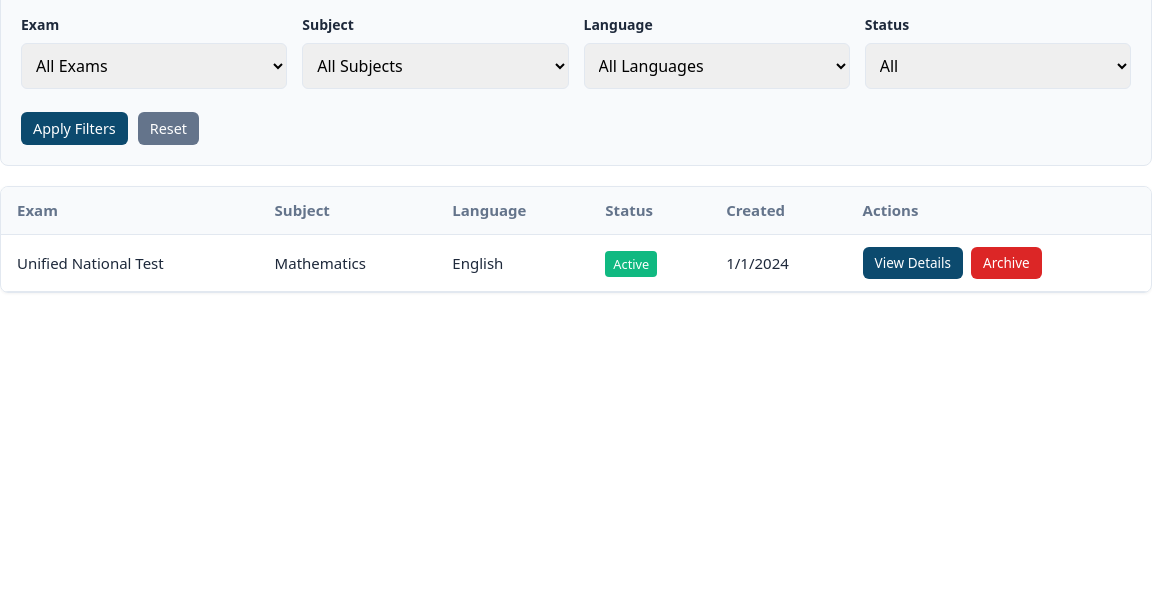
Test: CourseTemplatePanel › displays equations in quiz questions when equation field is present
The image size is (1152, 590).
What coordinates should you click on to do the following:
click the button "View Details"
I would click on:
 (913, 263)
Its box is [863, 247, 963, 279].
(page scrolled)
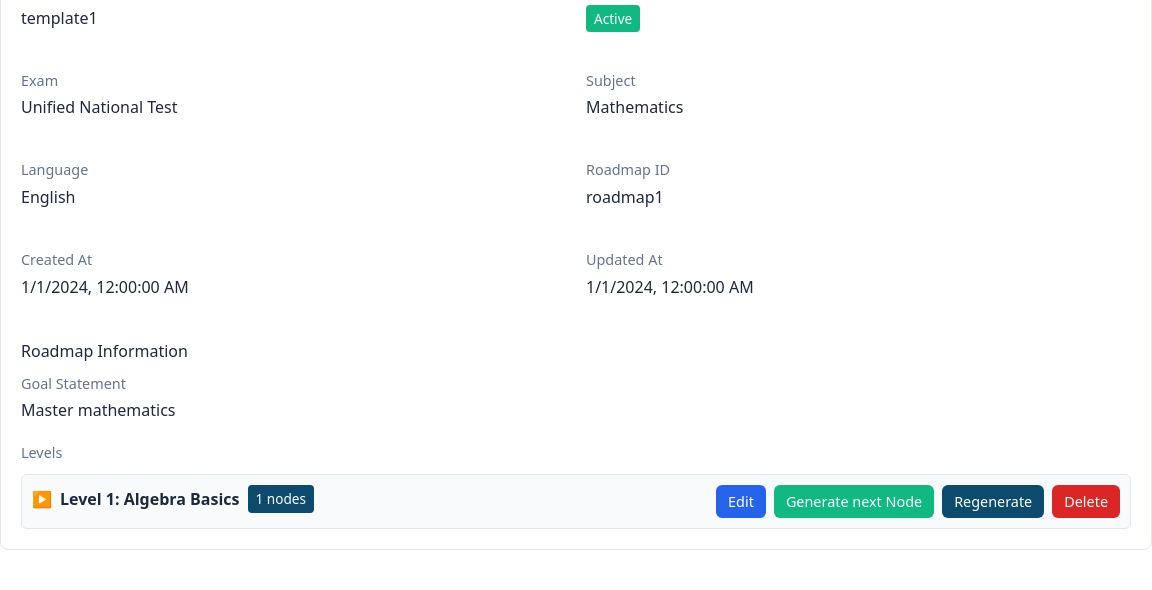
Expected: the text "Level 1: Algebra Basics" is shown
Expand the level
What coordinates should you click on to do the following:
click the text "Level 1: Algebra Basics"
I would click on:
 (150, 499)
Its box is [60, 487, 240, 511].
(page scrolled)
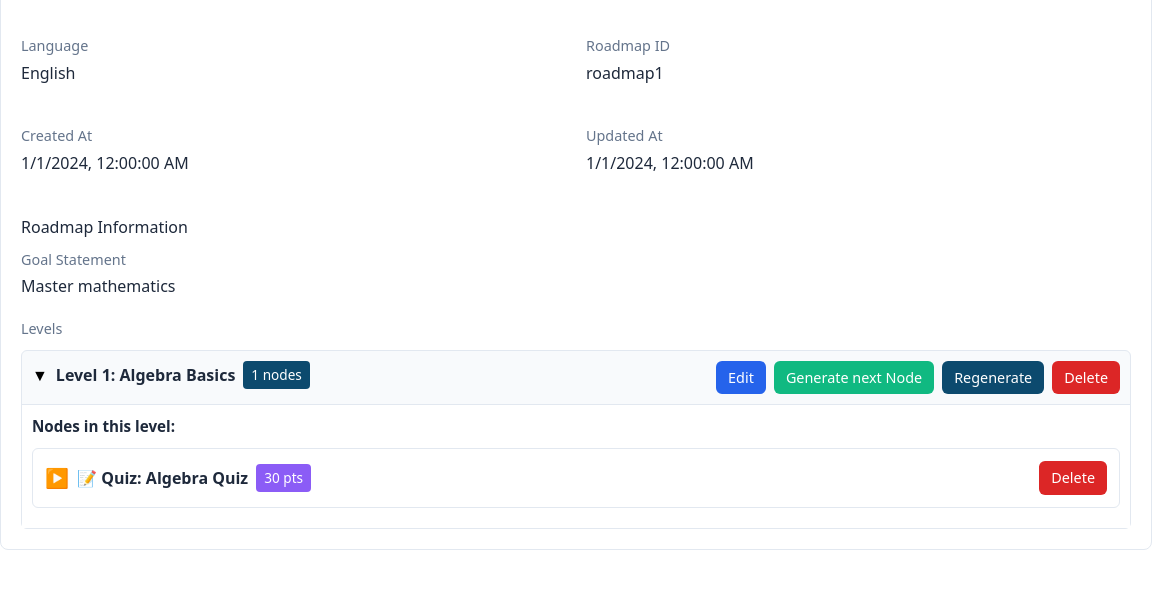
Expected: the text "📝 Quiz: Algebra Quiz" is shown
Click to expand the quiz node
What coordinates should you click on to do the following:
click the text "📝 Quiz: Algebra Quiz"
I would click on:
 (163, 478)
Its box is [77, 466, 248, 490].
(page scrolled)
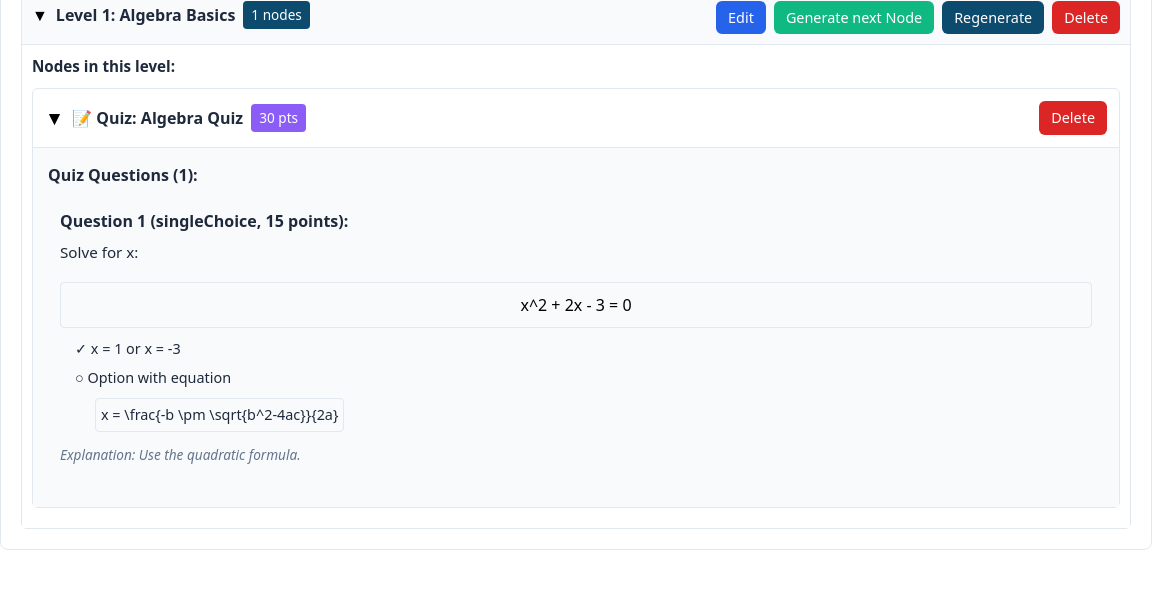
Expected: the text "Quiz Questions (1):" is shown, [48, 164, 198, 186]
Expected: the text "Solve for x:" is shown, [60, 242, 138, 262]
